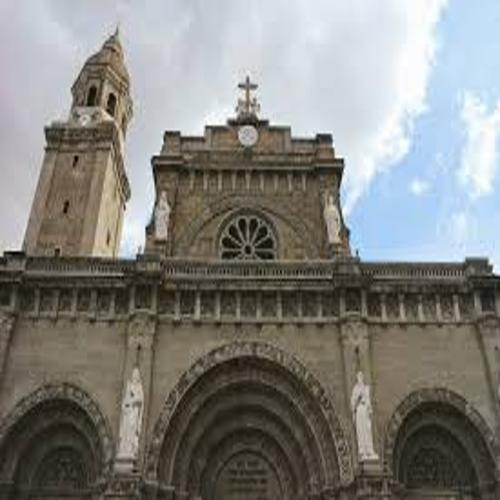Manila Cathedral Church: (6, 16, 497, 492)
